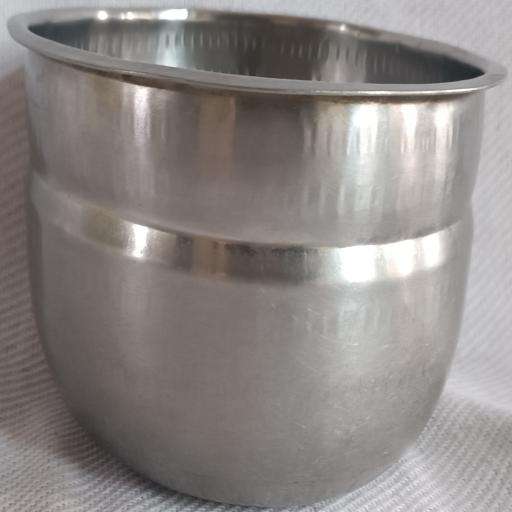vessel: (8, 8, 506, 506)
